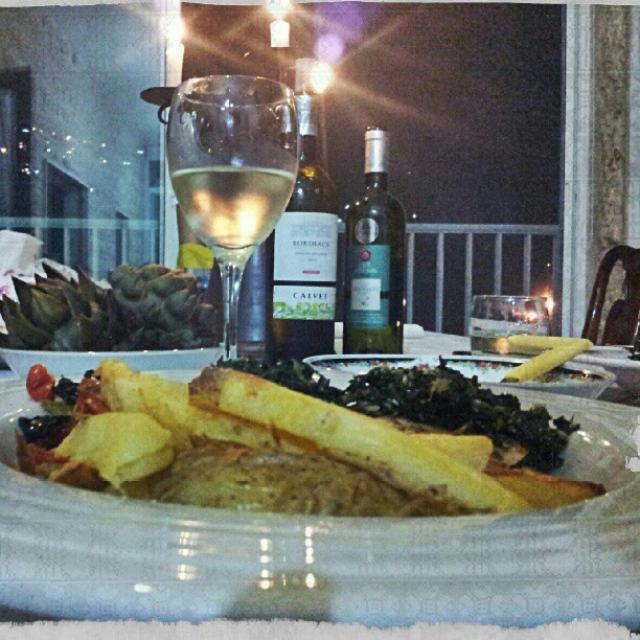chair: (580, 245, 640, 351)
dining table: (0, 322, 640, 640)
